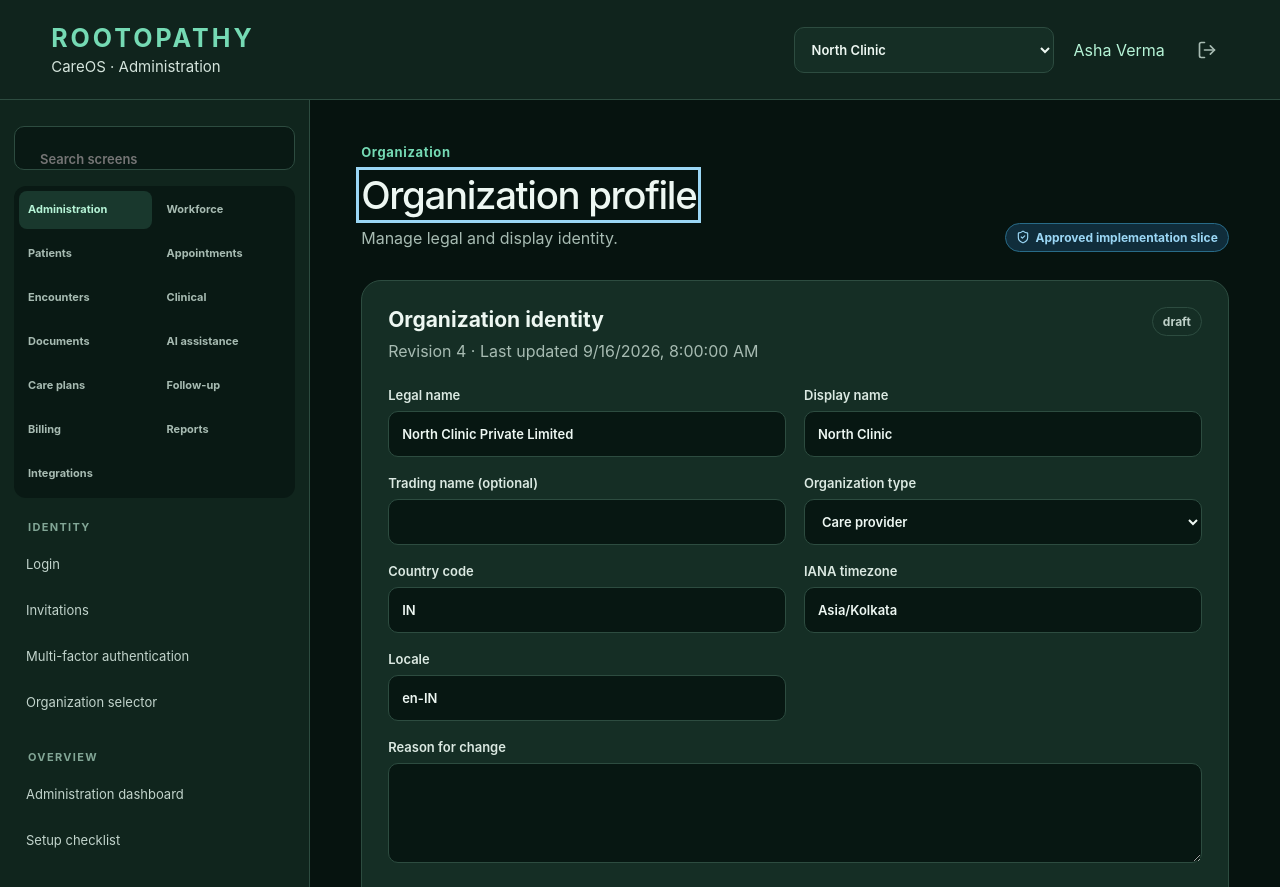
CareOS frontend session boundary › updates an organization profile with its strong revision and a caller-owned retry key
The width and height of the screenshot is (1280, 887).
Check: the heading "Organization profile" is shown, box x1=361 y1=172 x2=696 y2=218
Replace the text in the field labelled "Display name" with "North Care Network". click: point(1003, 434)
box: x1=804 y1=411 x2=1202 y2=457
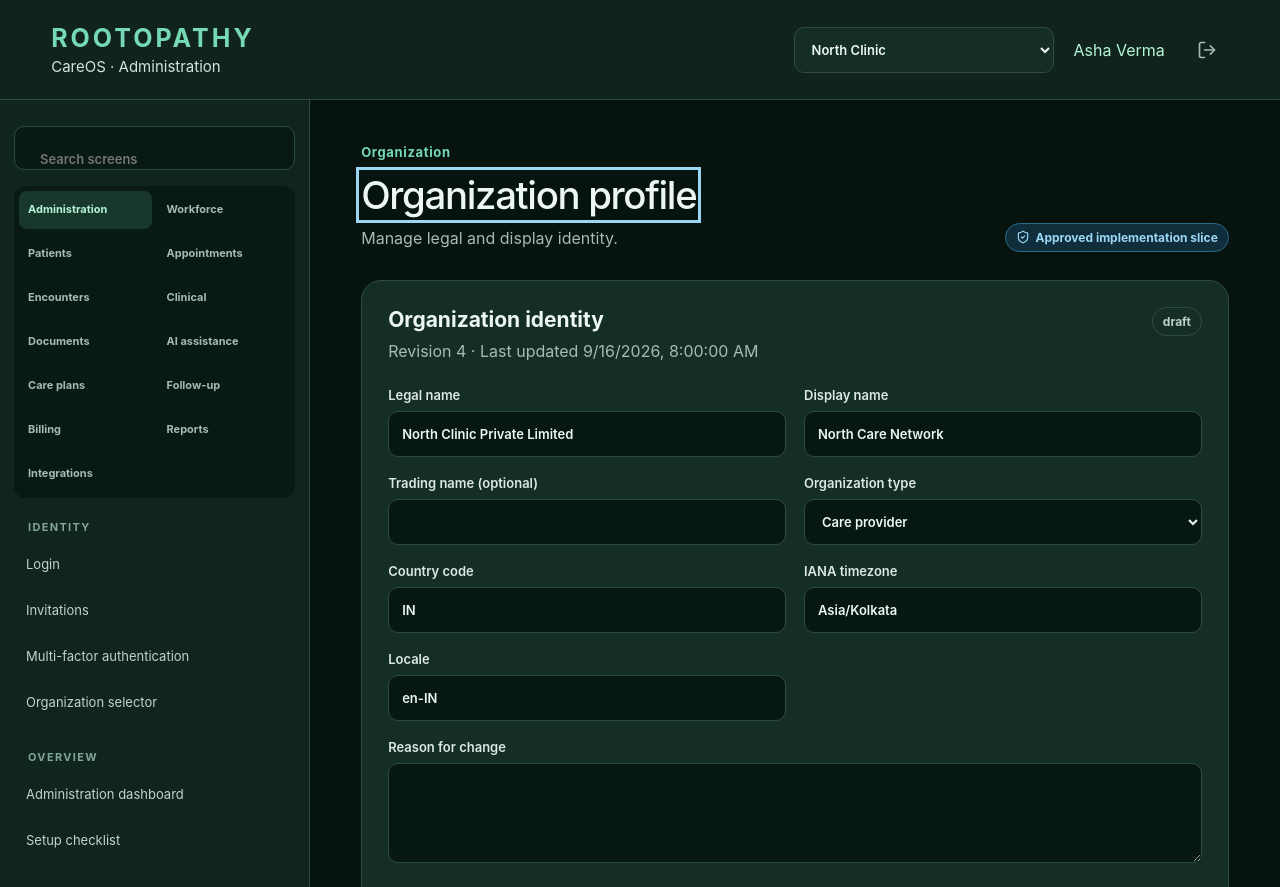
Type "North Care" into the field labelled "Trading name (optional)". click: point(587, 522)
box: x1=388 y1=499 x2=786 y2=545
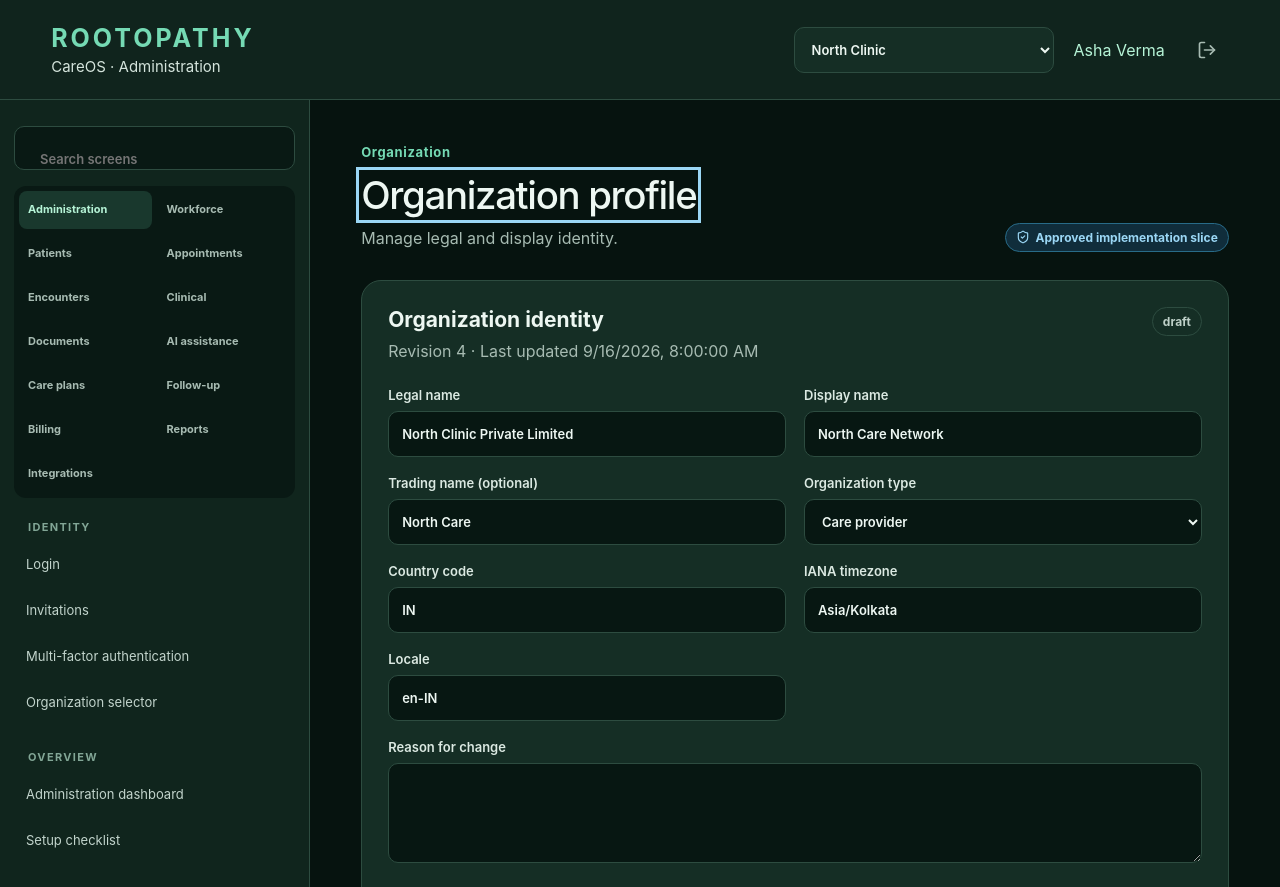
Select "Care network" in the dropdown labelled "Organization type". click: point(1003, 522)
box: x1=804 y1=499 x2=1202 y2=545
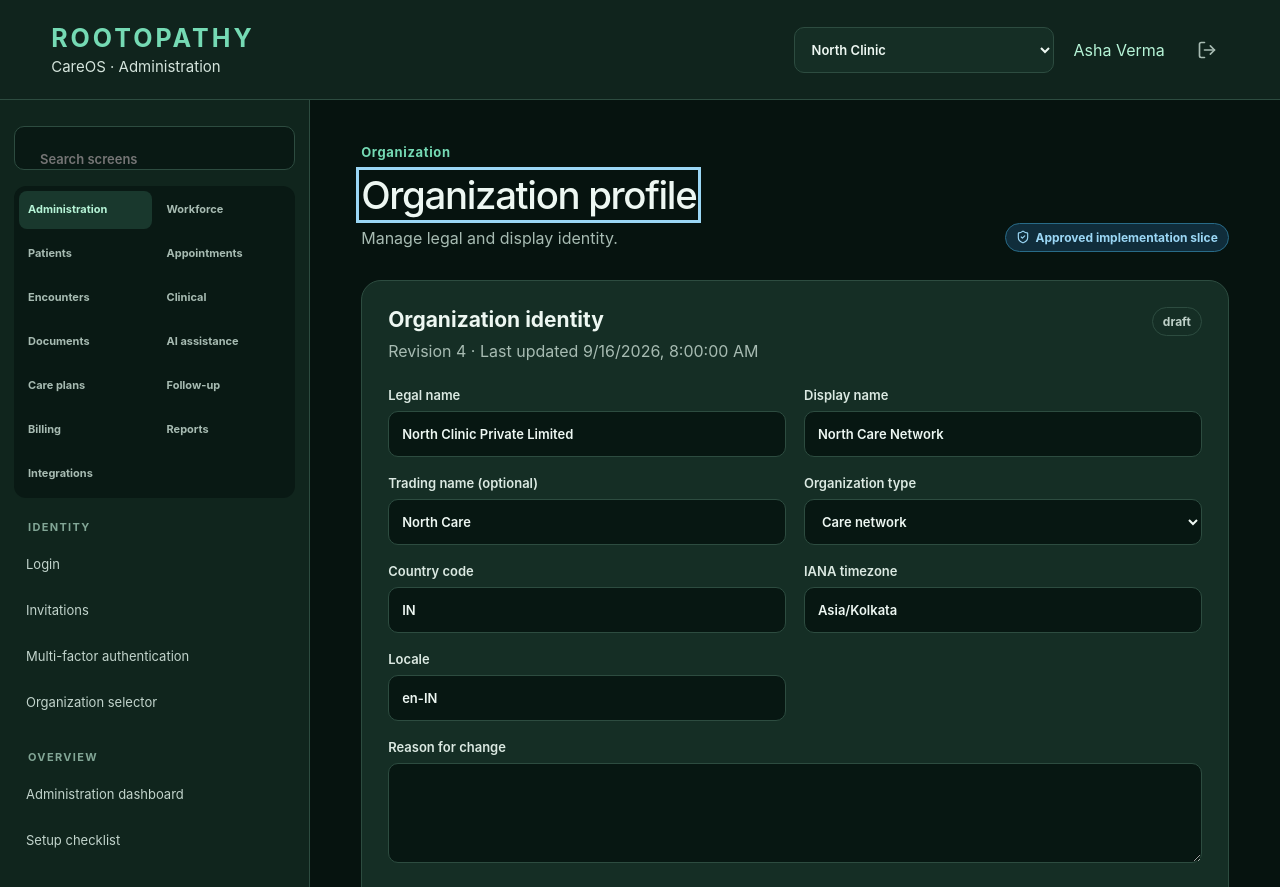
Type "en-GB" into the field labelled "Locale". click: point(587, 698)
box: x1=388 y1=675 x2=786 y2=721
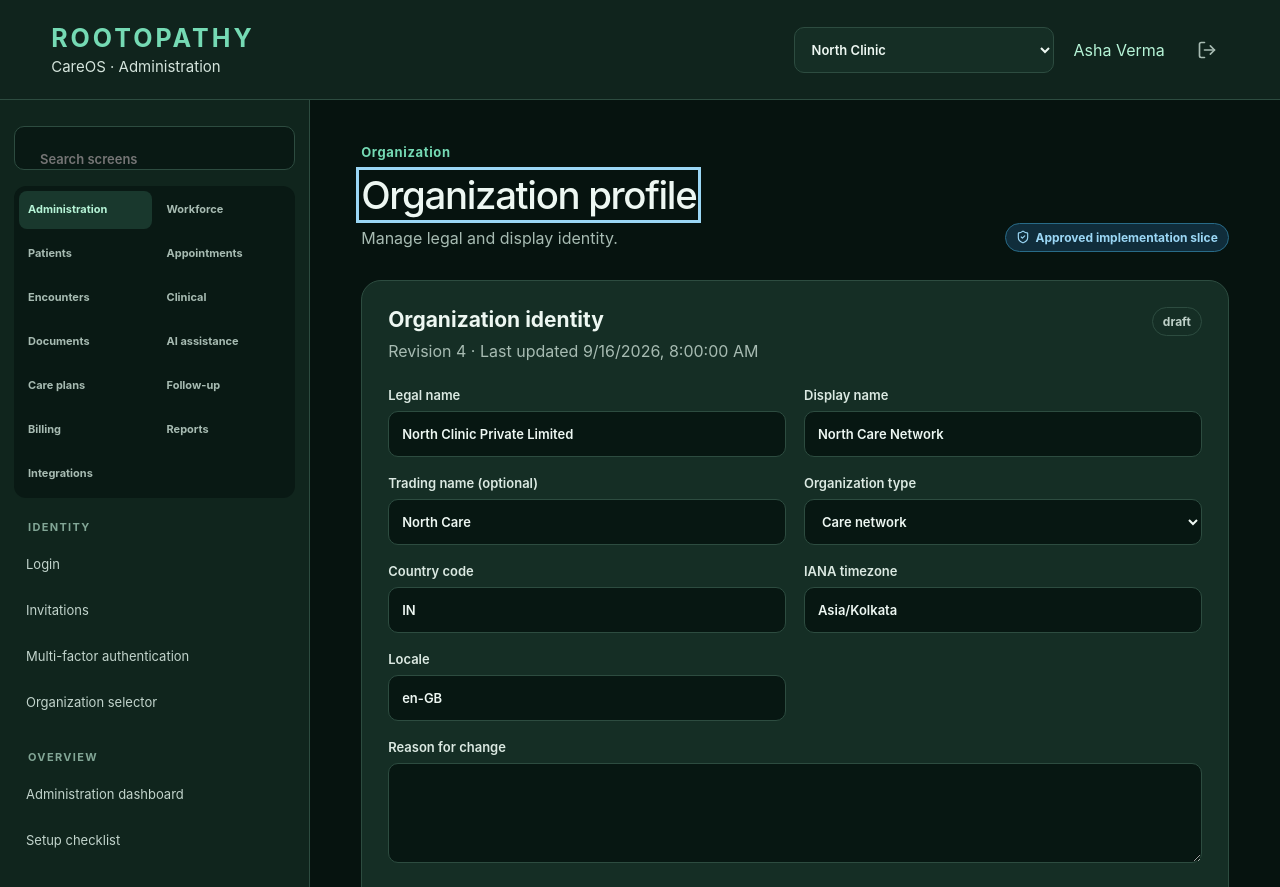
Type "Approved identity review CARE-42" into the text box labelled "Reason for change". click: point(795, 813)
box: x1=388 y1=763 x2=1202 y2=863
(page scrolled)
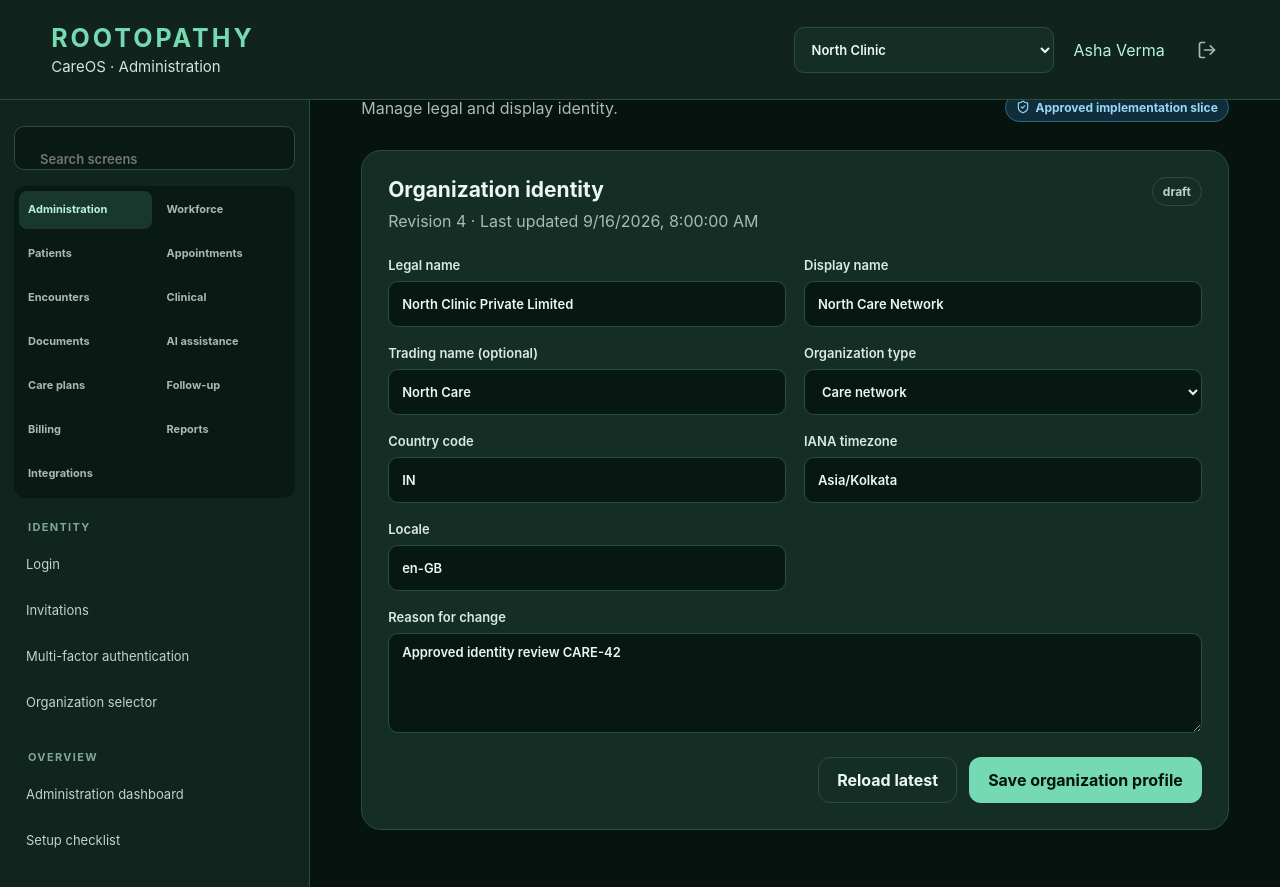
Click the button "Save organization profile". click: point(1085, 780)
box: x1=969 y1=757 x2=1202 y2=803
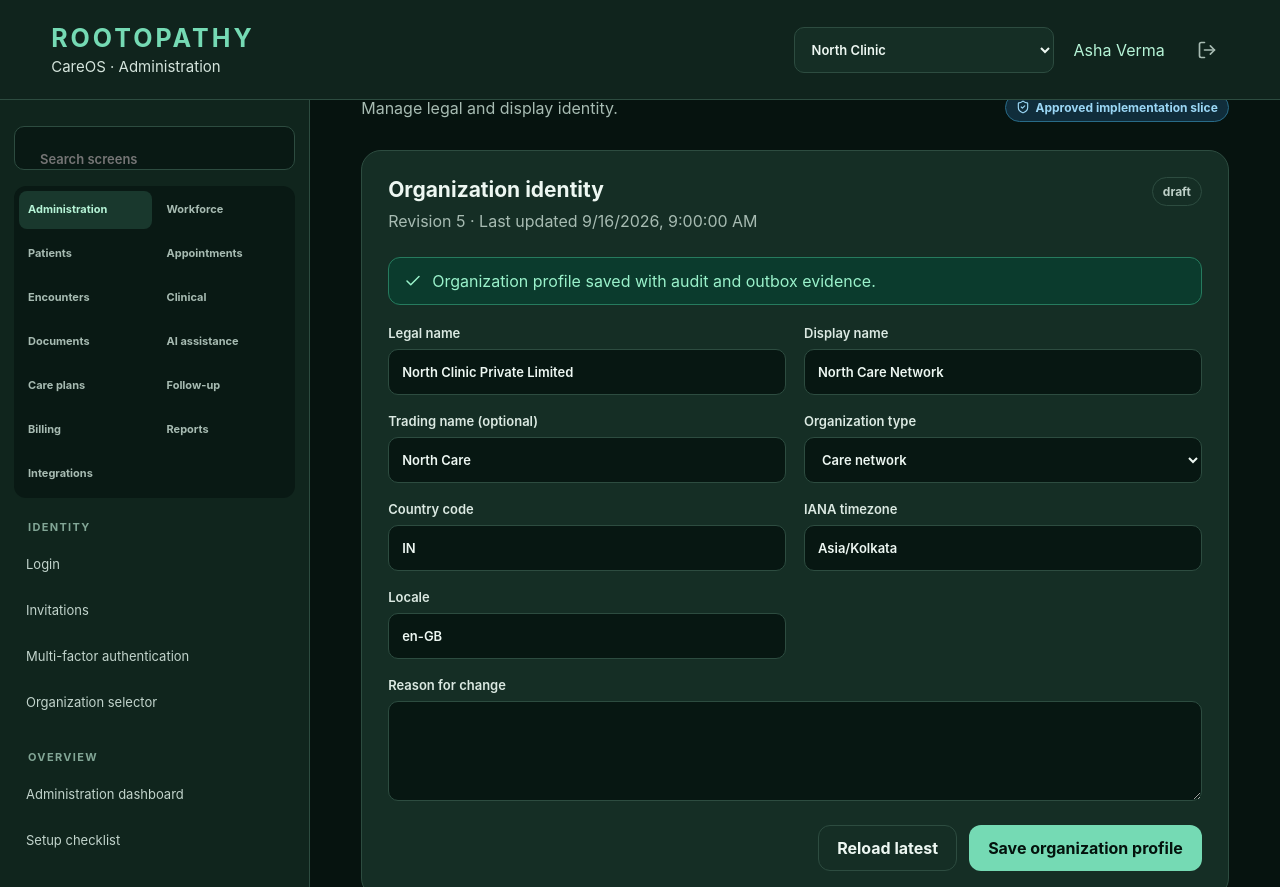
Check: the message shows "Organization profile saved with audit and outbox evidence", box x1=432 y1=271 x2=876 y2=291
Check: the text "Revision 5 · Last updated 9/16/2026, 9:00:00 AM" is shown, box x1=388 y1=209 x2=758 y2=233
